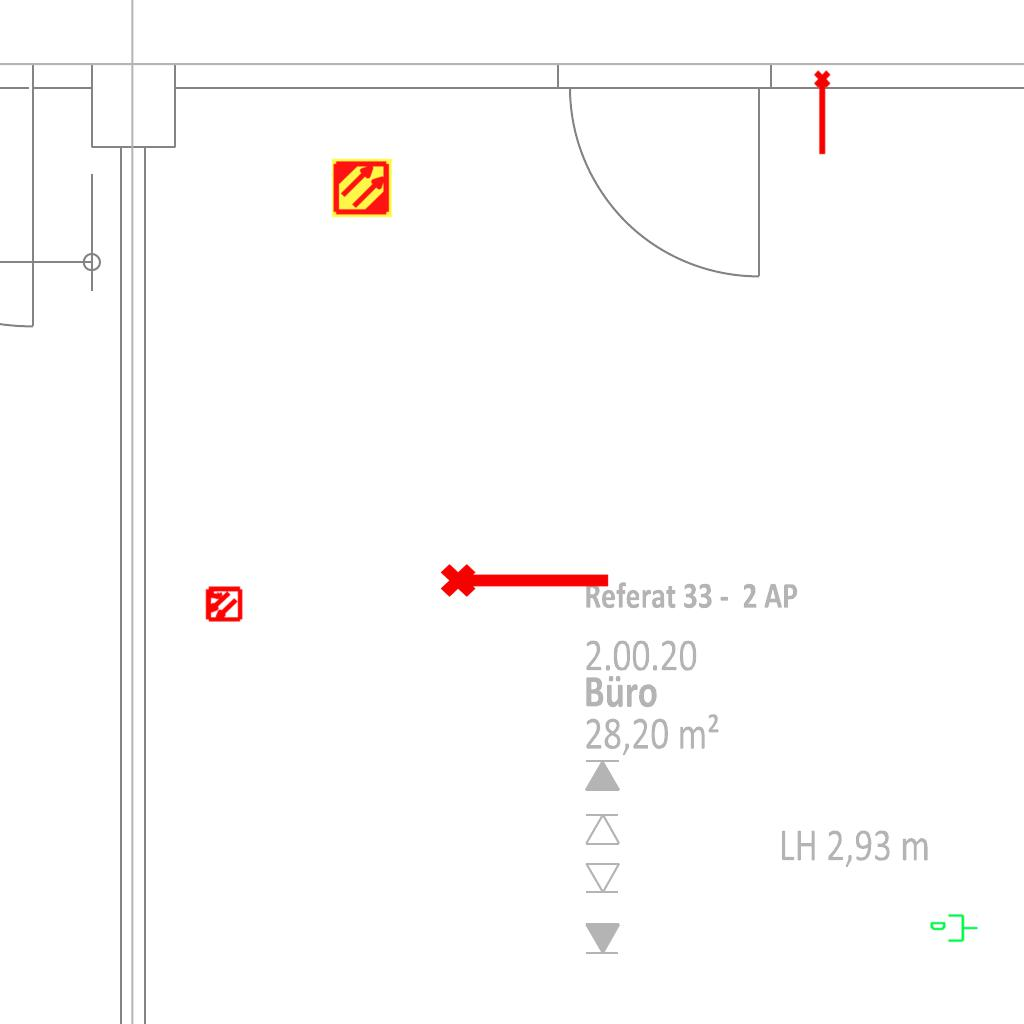ASR_Ansaugoeffnung: (438, 555, 614, 601), (812, 69, 835, 157)
ASR_Ansaugrauchmelder: (331, 157, 393, 219)
Datenanschluss_einfach: (929, 912, 979, 946)
OT_Multisensormelder_(Kombination_RMO_WMD): (195, 576, 251, 632)
